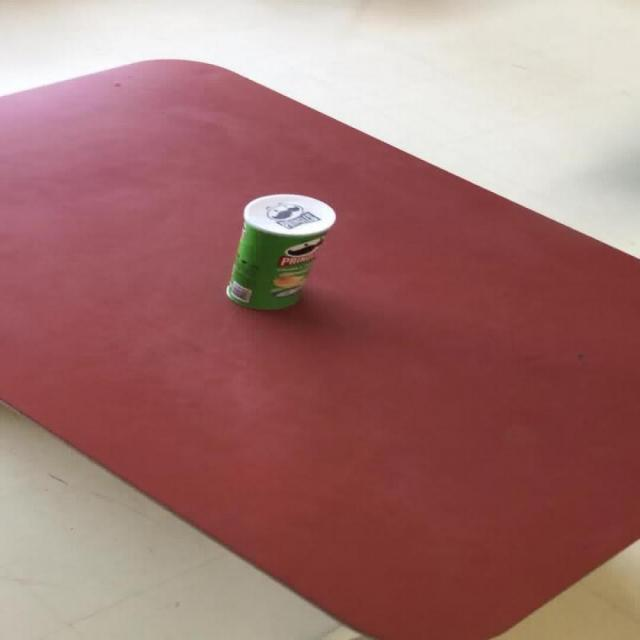Pringles: (223, 192, 336, 311)
